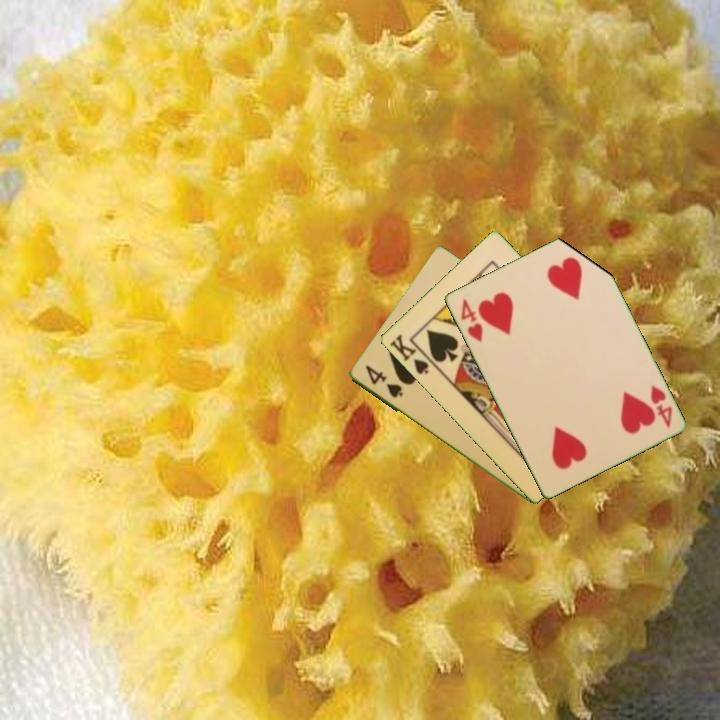4h: (457, 295, 486, 344), (647, 381, 675, 430)
4s: (361, 362, 406, 401)
Ks: (385, 330, 431, 377)
